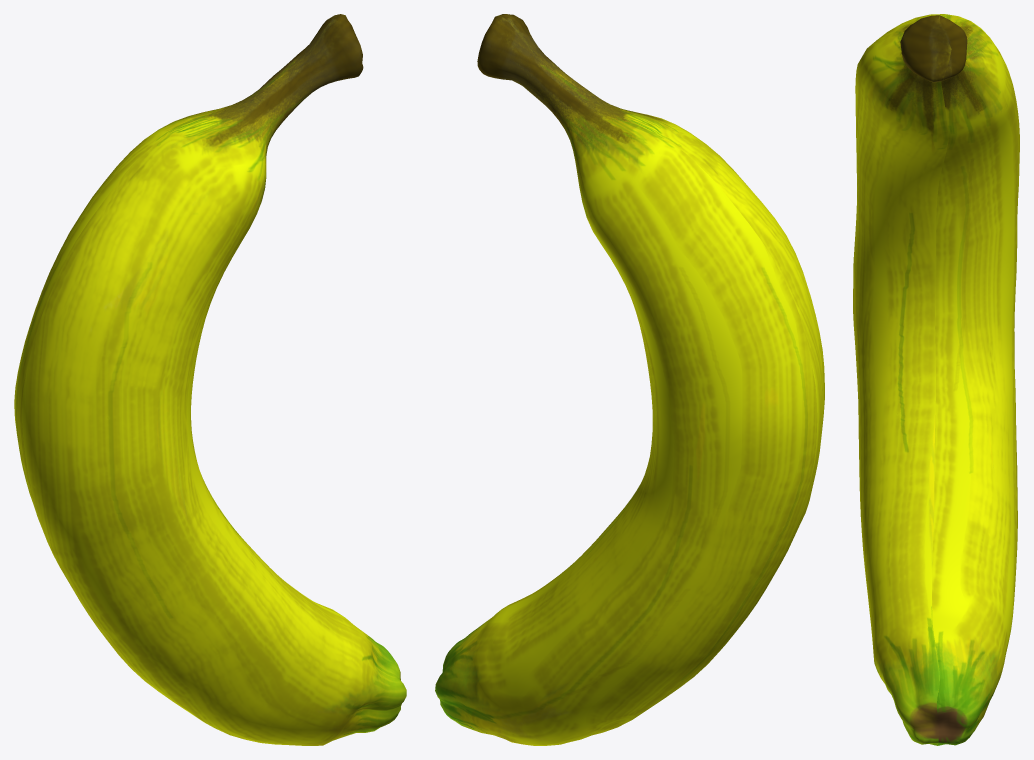
The model's file is banana.glb.
3 renders of one model, left to right at view 1: azimuth 30°, elevation 25°; view 2: azimuth 150°, elevation 25°; view 3: azimuth 270°, elevation 25°, orthographic.
Parts seen in each view (by area): view 1: Banana.001_0; view 2: Banana.001_0; view 3: Banana.001_0.
Boxes of the visible parts, box(x1,y1,x2,y2) form: Banana.001_0: box(14, 14, 406, 745); Banana.001_0: box(435, 14, 824, 745); Banana.001_0: box(853, 14, 1019, 745).
Size of the model in its own units: 1.77 by 3.26 by 0.6843.
1 material, 1 textured.
